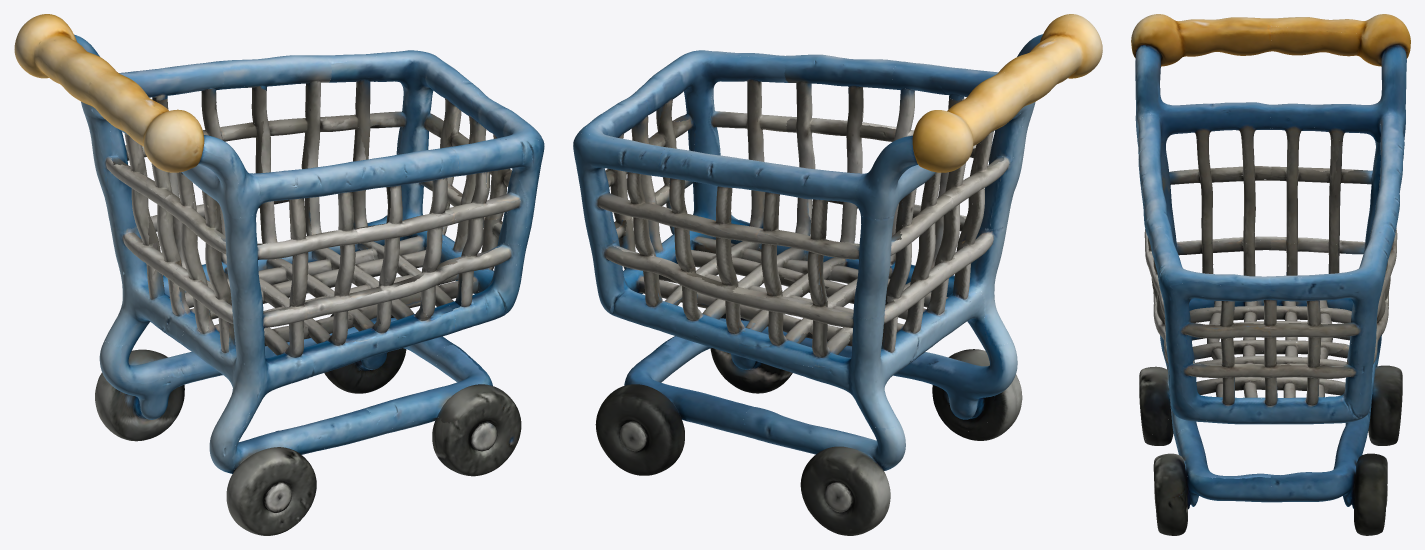
3 renders of one model, left to right at view 1: azimuth 30°, elevation 25°; view 2: azimuth 150°, elevation 25°; view 3: azimuth 270°, elevation 25°, orthographic. The views are drawn at different scales.
Parts seen in each view (by area): view 1: ALO; view 2: ALO; view 3: ALO.
Part boxes in pixels (x1,y1,x2,y2): ALO: [14, 14, 544, 535]; ALO: [573, 14, 1102, 535]; ALO: [1131, 14, 1410, 535].
Bounding box in the file's own units: 1.27 × 1.32 × 0.8676.
1 material, 1 textured.
